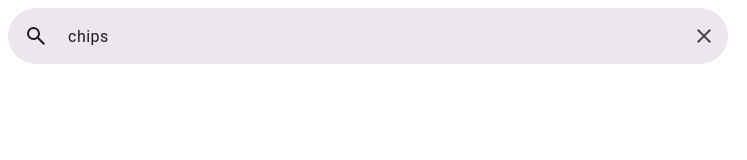
Test case: SearchBar › clears with the clear button, keeping focus in the field
What coordinates should you click on to do the following:
click the button named "Clear"
I would click on:
 (704, 36)
Its box is 684,16 -> 724,56.
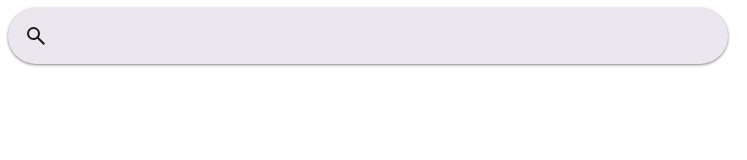
expect the search field is empty: met, box 64,8 -> 724,64
expect the button "Clear" is gone: met
